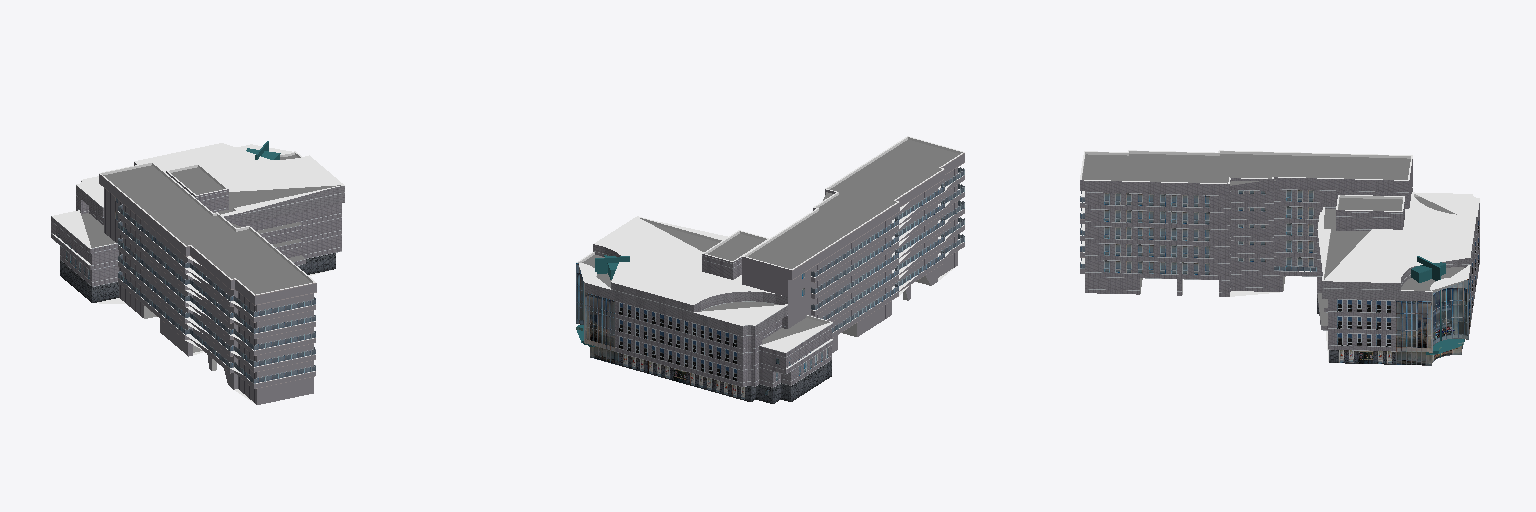
The picture shows the model from 3 angles: view 1: azimuth 30°, elevation 25°; view 2: azimuth 150°, elevation 25°; view 3: azimuth 270°, elevation 25°; orthographic projection.
Visible parts, largest first — view 1: Mesh1 Group3 Group2 Group1 Model, Mesh2 Group4 Group2 Group1 Model, Mesh7 Group8 __237_1 Group1 Model, Mesh15 Group16 __237_5 Group1 Model, Mesh9 Group10 __237_2 Group1 Model, Mesh13 Group14 __237_4 Group1 Model, Mesh11 Group12 __237_3 Group1 Model, Mesh12 Group13 __237_3 Group1 Model, Mesh16 Group17 __237_5 Group1 Model, Mesh14 Group15 __237_4 Group1 Model, Mesh8 Group9 __237_1 Group1 Model, Mesh10 Group11 __237_2 Group1 Model; view 2: Mesh1 Group3 Group2 Group1 Model, Mesh2 Group4 Group2 Group1 Model, Mesh12 Group13 __237_3 Group1 Model, Mesh8 Group9 __237_1 Group1 Model, Mesh16 Group17 __237_5 Group1 Model, Mesh15 Group16 __237_5 Group1 Model, Mesh7 Group8 __237_1 Group1 Model, Mesh11 Group12 __237_3 Group1 Model, Mesh14 Group15 __237_4 Group1 Model, Mesh10 Group11 __237_2 Group1 Model, Mesh13 Group14 __237_4 Group1 Model, Mesh9 Group10 __237_2 Group1 Model; view 3: Mesh1 Group3 Group2 Group1 Model, Mesh2 Group4 Group2 Group1 Model.
Boxes of the visible parts, <box> form: Mesh1 Group3 Group2 Group1 Model: <box>51,143,344,404</box>; Mesh2 Group4 Group2 Group1 Model: <box>166,164,228,212</box>; Mesh7 Group8 __237_1 Group1 Model: <box>118,211,315,322</box>; Mesh15 Group16 __237_5 Group1 Model: <box>118,245,315,355</box>; Mesh9 Group10 __237_2 Group1 Model: <box>118,278,315,388</box>; Mesh13 Group14 __237_4 Group1 Model: <box>118,261,315,372</box>; Mesh11 Group12 __237_3 Group1 Model: <box>118,228,315,338</box>; Mesh12 Group13 __237_3 Group1 Model: <box>118,221,315,333</box>; Mesh16 Group17 __237_5 Group1 Model: <box>118,238,315,350</box>; Mesh14 Group15 __237_4 Group1 Model: <box>118,254,315,366</box>; Mesh8 Group9 __237_1 Group1 Model: <box>118,204,315,316</box>; Mesh10 Group11 __237_2 Group1 Model: <box>118,271,315,383</box>; Mesh1 Group3 Group2 Group1 Model: <box>576,136,964,403</box>; Mesh2 Group4 Group2 Group1 Model: <box>702,230,768,279</box>; Mesh12 Group13 __237_3 Group1 Model: <box>811,184,964,293</box>; Mesh8 Group9 __237_1 Group1 Model: <box>811,167,964,276</box>; Mesh16 Group17 __237_5 Group1 Model: <box>811,200,964,309</box>; Mesh15 Group16 __237_5 Group1 Model: <box>811,209,964,315</box>; Mesh7 Group8 __237_1 Group1 Model: <box>811,173,964,282</box>; Mesh11 Group12 __237_3 Group1 Model: <box>811,192,964,298</box>; Mesh14 Group15 __237_4 Group1 Model: <box>820,217,964,319</box>; Mesh10 Group11 __237_2 Group1 Model: <box>832,234,964,332</box>; Mesh13 Group14 __237_4 Group1 Model: <box>827,223,964,321</box>; Mesh9 Group10 __237_2 Group1 Model: <box>832,239,964,337</box>; Mesh1 Group3 Group2 Group1 Model: <box>1080,150,1479,365</box>; Mesh2 Group4 Group2 Group1 Model: <box>1336,195,1404,230</box>.
Size of the model in its own units: 47.77 by 22.2 by 71.54.
Materials: 21 (17 with a texture image).